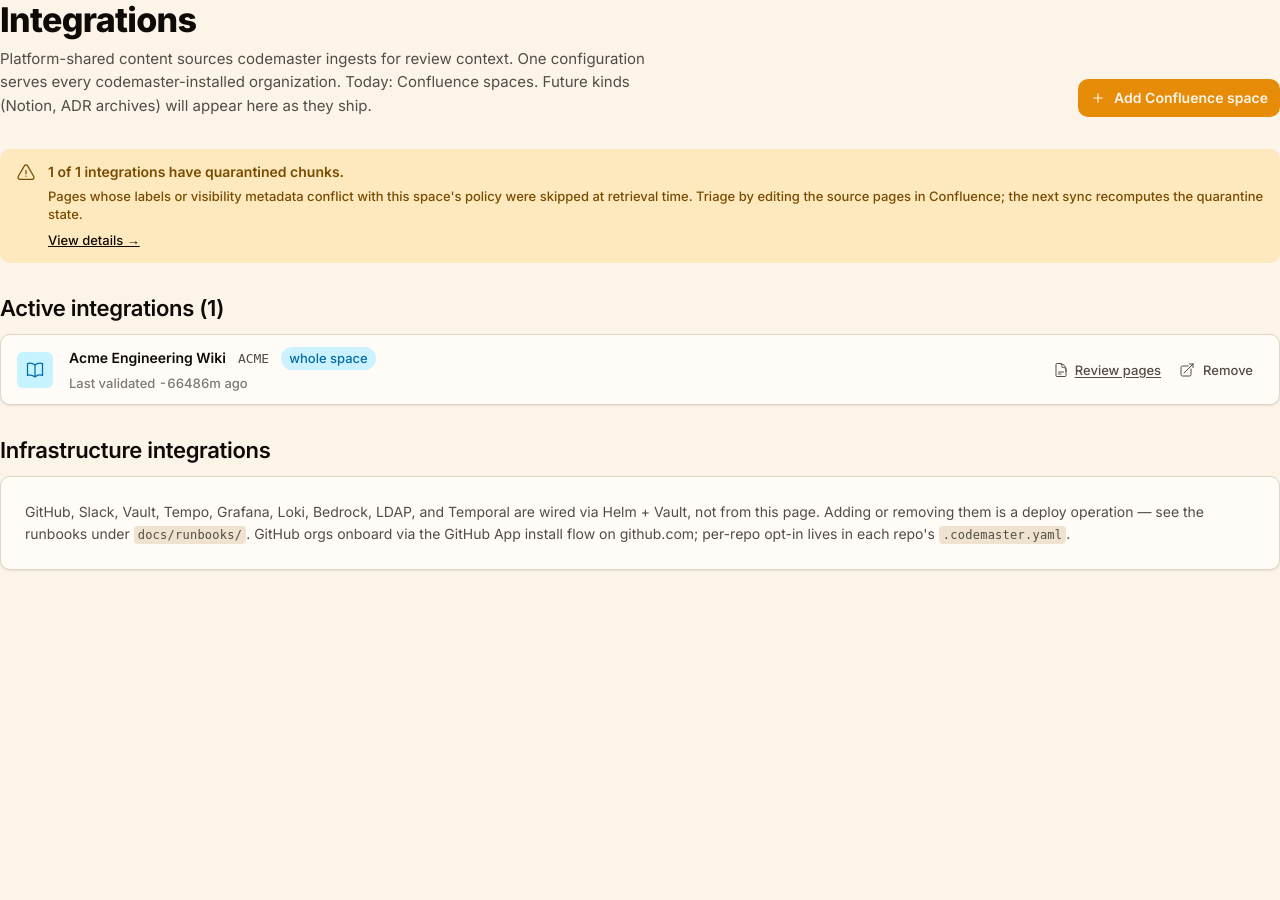
Test: IntegrationsPage — wiring › DELETE rolls back the optimistic update when the backend errors
This screenshot has width=1280, height=900.
Click the button "Remove".
click(1216, 370)  # box [1169,354,1263,385]
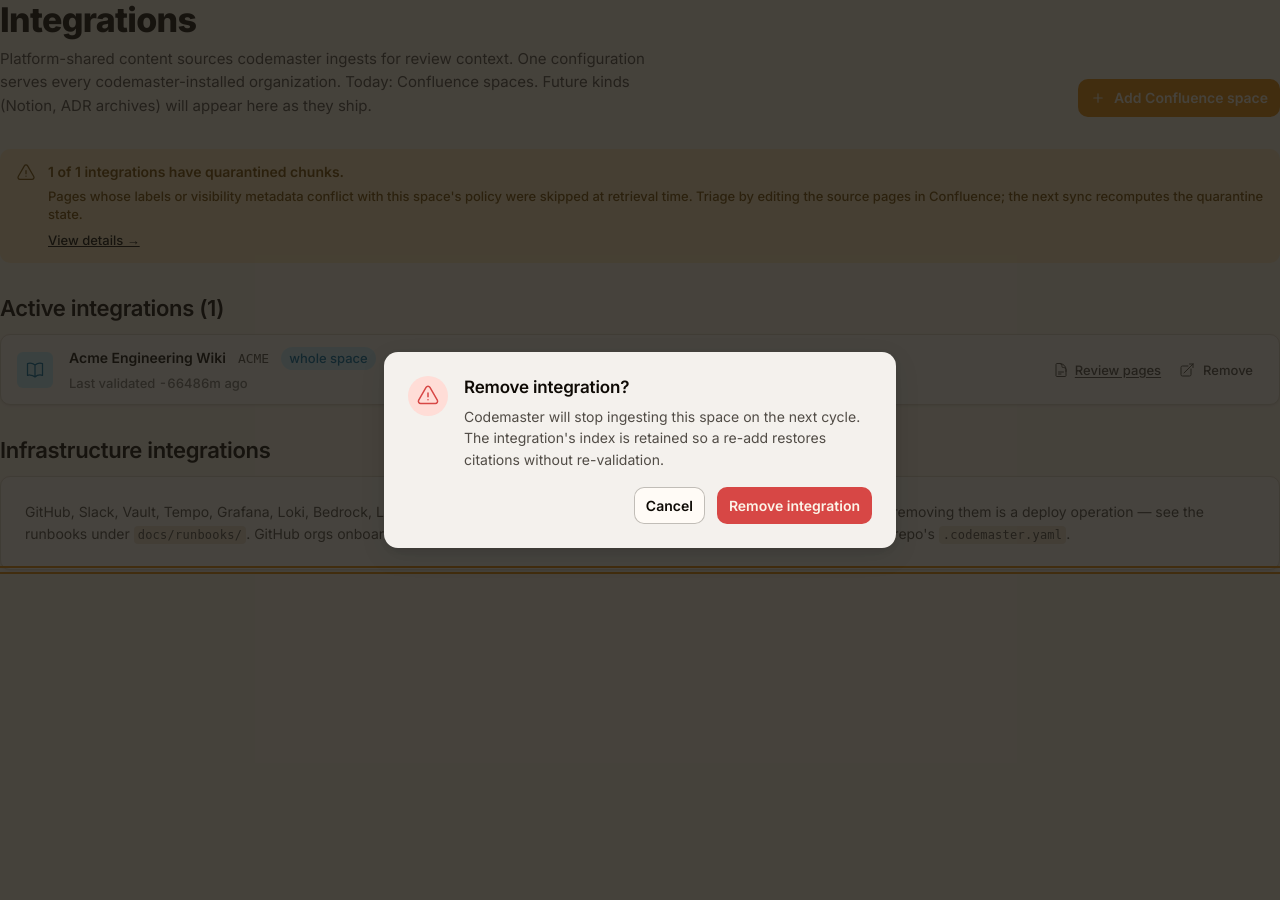
Click the button "Remove integration".
click(794, 506)  # box [717,487,872,524]
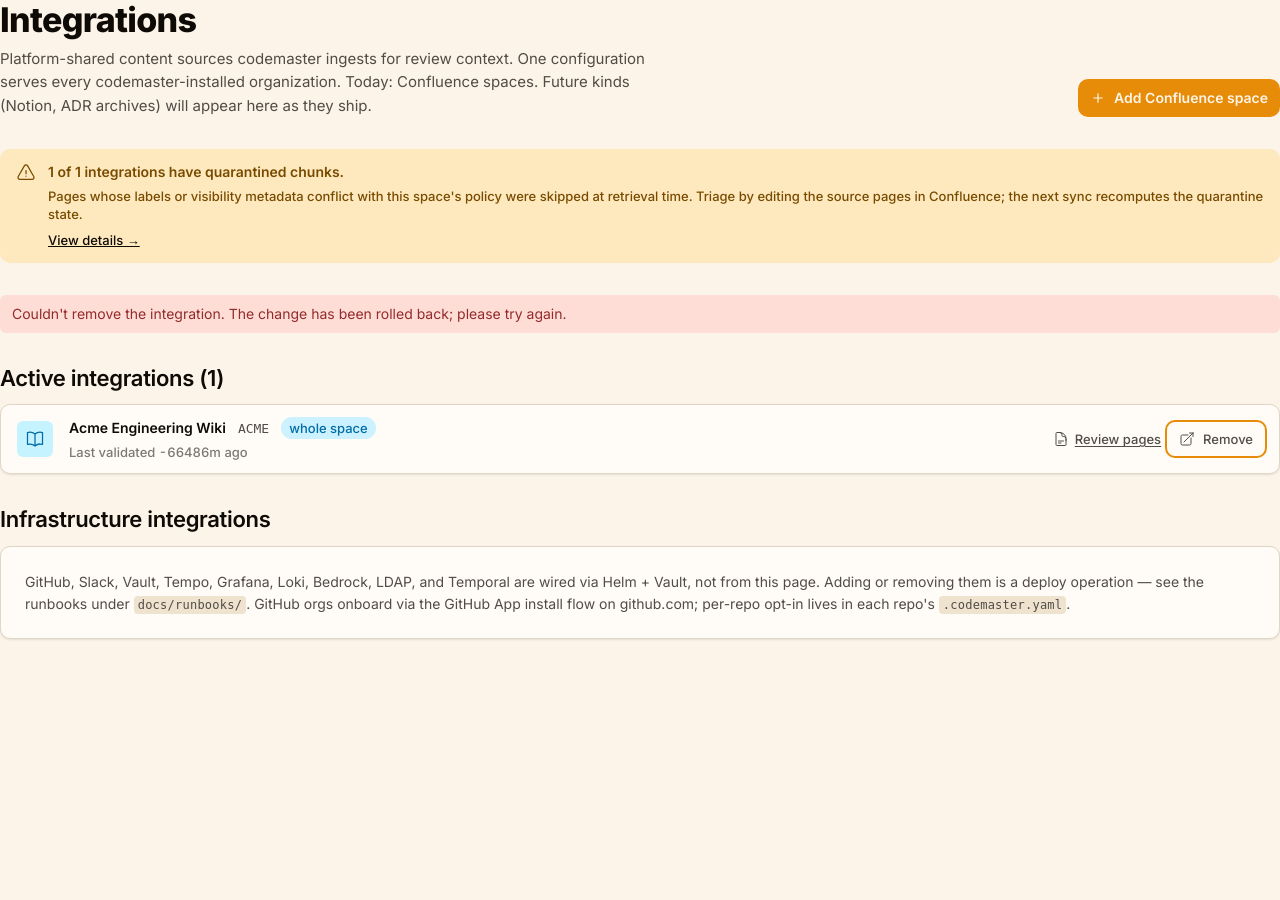
expect the text "Acme Engineering Wiki" is shown: met, box [69,417,226,439]
expect the text "Couldn't remove the integration" is shown: met, box [12,305,567,322]
